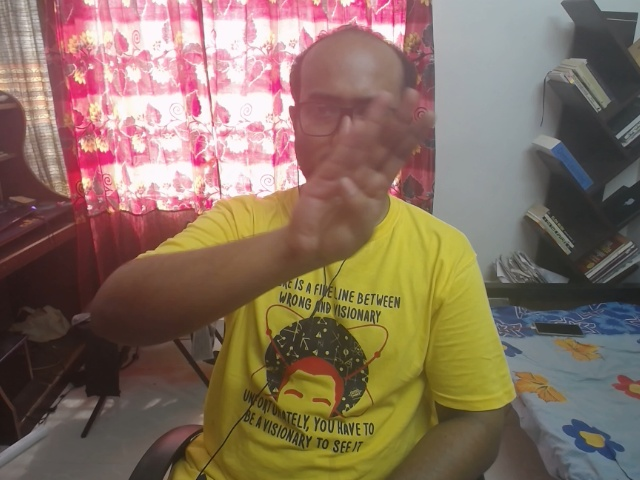counting: (269, 77, 447, 269)
